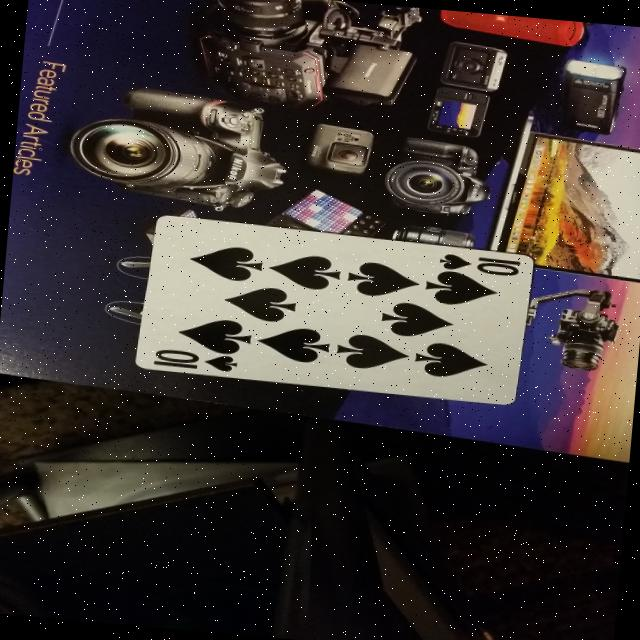10s: (134, 344, 245, 378), (432, 250, 524, 278)
